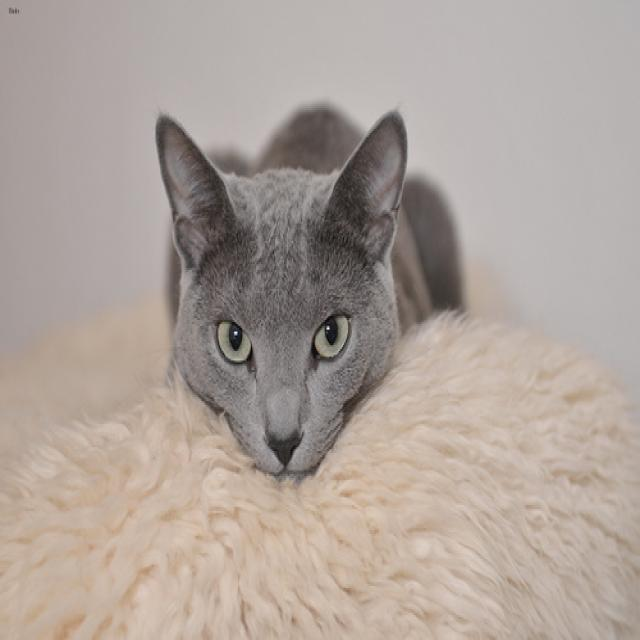Russian_Blue: (155, 108, 404, 482)
